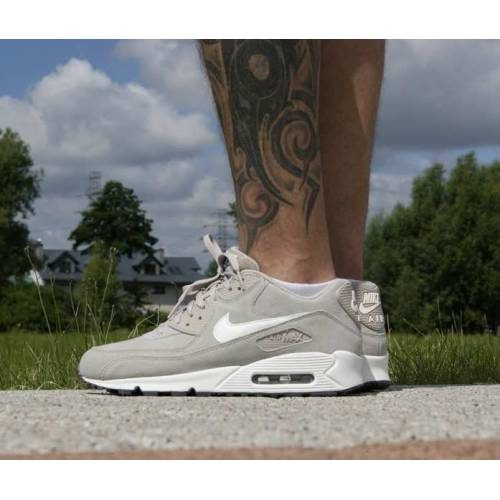nike: (211, 309, 310, 345)
